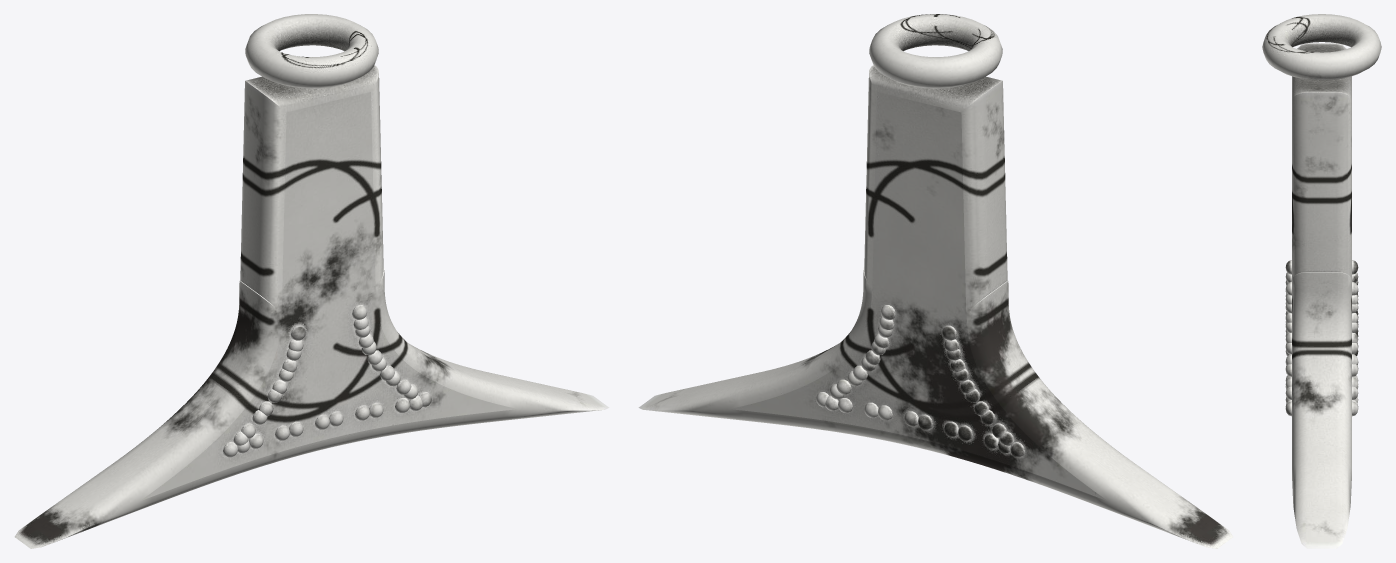
File: mjolnir_pendant.glb
3 views of the same model, side by side, from view 1: azimuth 30°, elevation 25°; view 2: azimuth 150°, elevation 25°; view 3: azimuth 270°, elevation 25° (orthographic). The views are drawn at different scales.
Visible parts, largest first — view 1: mjolnir_pendant; view 2: mjolnir_pendant; view 3: mjolnir_pendant.
Boxes of the visible parts, <box> form: mjolnir_pendant: <box>14,14,609,548</box>; mjolnir_pendant: <box>638,14,1233,548</box>; mjolnir_pendant: <box>1262,14,1381,548</box>.
Size of the model in its own units: 0.0549 by 0.0394 by 0.011.
Materials: 1 (1 with a texture image).
